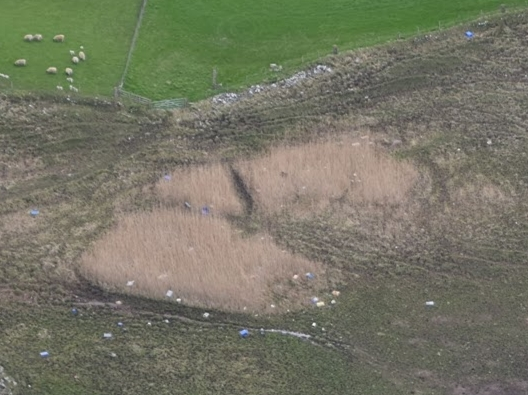scattered_barrel: (27, 267, 222, 372), (229, 267, 355, 355), (160, 169, 222, 222)
white_in_green: (410, 285, 450, 325), (448, 12, 488, 52), (15, 192, 55, 232)
